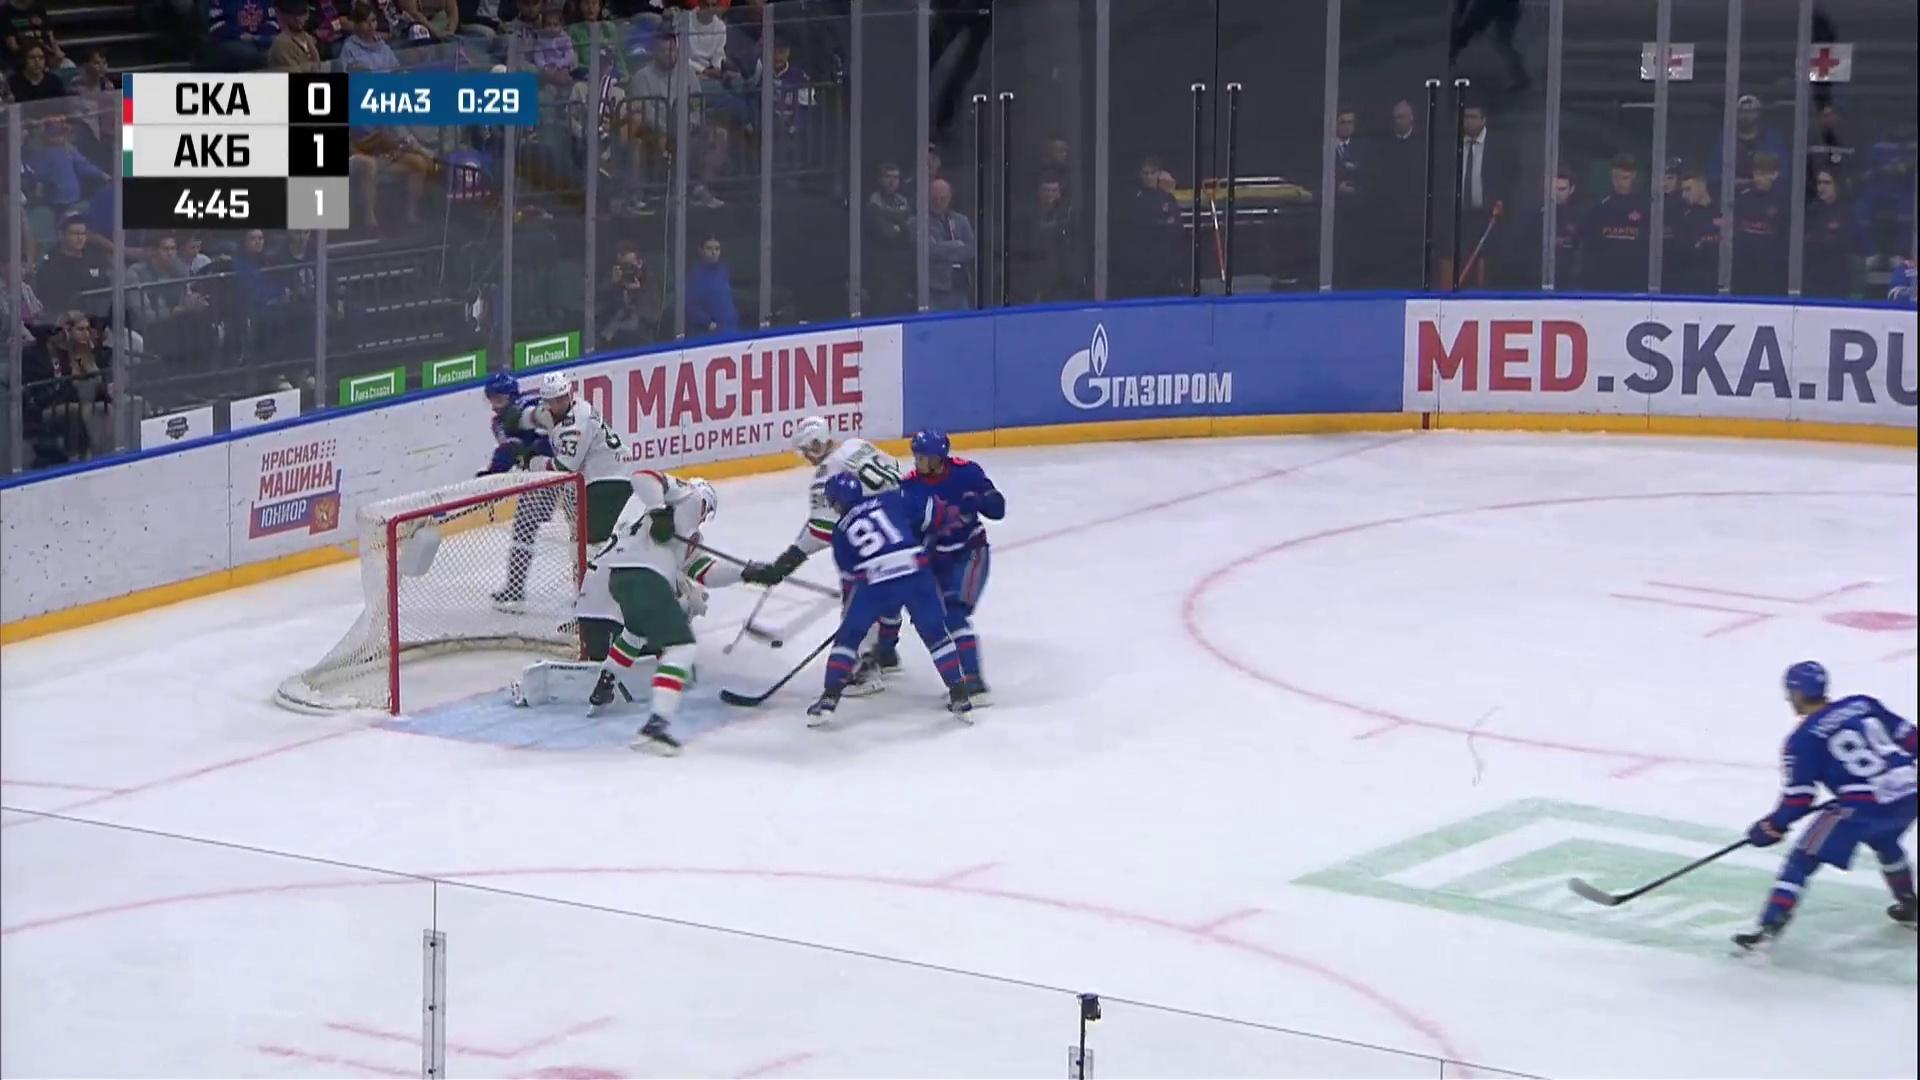ball: (770, 641, 783, 649)
